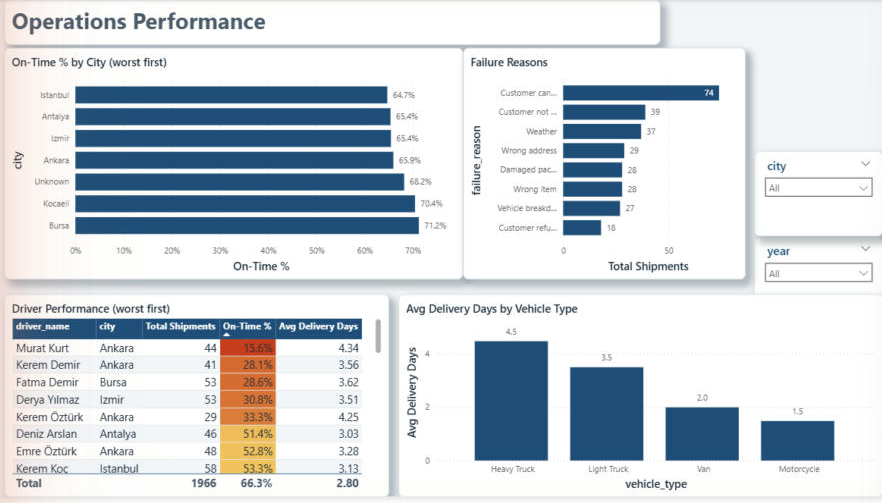

The page's visual inventory and layout, read from the dashboard file:
{"tool":"powerbi","page":{"name":"Operations","canvas":[1280,720],"ordinal":1},"visuals":[{"type":"textbox","box":[8.2,0,949.6,65.9],"z":0},{"type":"slicer","fields":{"Values":["dim_date.year"]},"box":[1093.4,343.1,186.6,166],"z":1},{"type":"slicer","fields":{"Values":["dim_customer.city"]},"box":[1093.4,219.6,186.6,123.5],"z":2},{"type":"clusteredBarChart","title":"On-Time % by City (worst first)","fields":{"Category":["dim_customer.city"],"Y":["fact_shipments.On-Time %"]},"box":[8.2,70,664.2,334.8],"z":3},{"type":"clusteredBarChart","title":"Failure Reasons","fields":{"Category":["fact_shipments.failure_reason"],"Y":["fact_shipments.Total Shipments"]},"box":[672.4,70,408.9,334.8],"z":4},{"type":"tableEx","title":"Driver Performance (worst first)","fields":{"Values":["dim_driver.driver_name","dim_driver.city","fact_shipments.Total Shipments","fact_shipments.On-Time %","fact_shipments.Avg Delivery Days"]},"box":[8.2,426.8,557.1,293.7],"z":5},{"type":"clusteredColumnChart","title":"Avg Delivery Days by Vehicle Type","fields":{"Category":["dim_vehicle.vehicle_type"],"Y":["fact_shipments.Avg Delivery Days"]},"box":[579.1,426.8,701.2,293.7],"z":6}]}

Visuals, with their boxes in screenshot pixels (x1, y1, x2, y2), scaled from the page's 1280x720 canvas onto the 882x503 screenshot:
textbox: bbox=(6, 0, 660, 46)
slicer - dim_date.year: bbox=(753, 240, 881, 356)
slicer - dim_customer.city: bbox=(753, 153, 881, 240)
"On-Time % by City (worst first)" clusteredBarChart: bbox=(6, 49, 463, 283)
"Failure Reasons" clusteredBarChart: bbox=(463, 49, 745, 283)
"Driver Performance (worst first)" tableEx: bbox=(6, 298, 390, 502)
"Avg Delivery Days by Vehicle Type" clusteredColumnChart: bbox=(399, 298, 881, 502)
